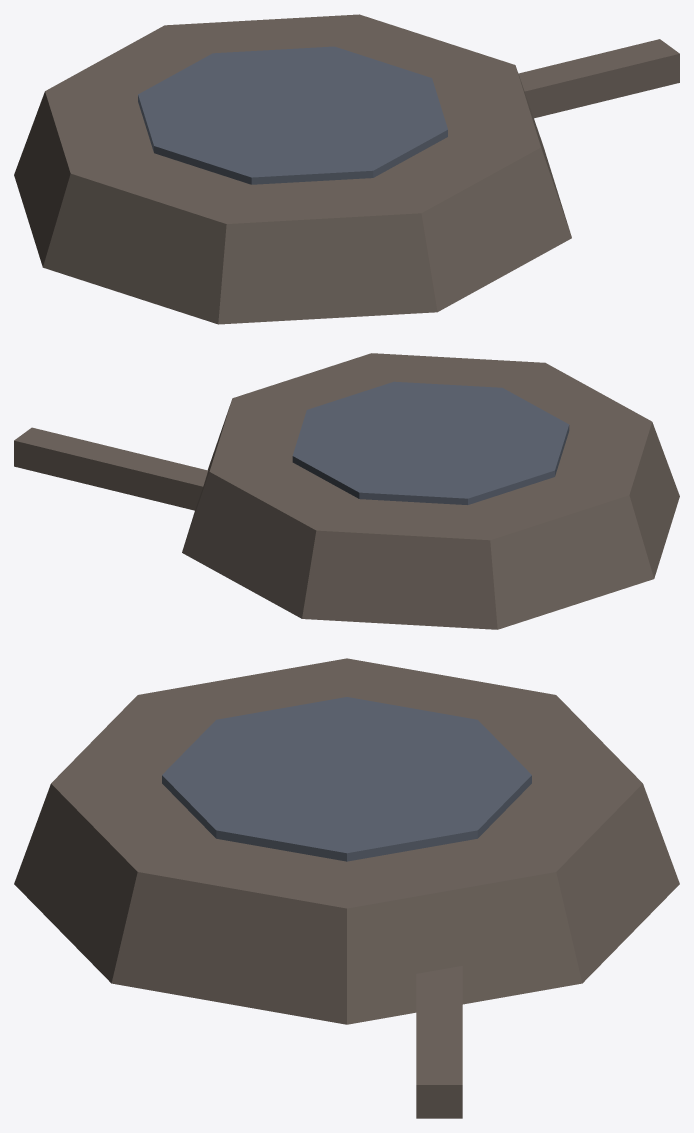
Rendered from rope_coil.glb.
The picture shows the model from 3 angles, top to bottom: view 1: azimuth 30°, elevation 25°; view 2: azimuth 150°, elevation 25°; view 3: azimuth 270°, elevation 25°; orthographic projection. The views are drawn at different scales.
Visible parts, largest first — view 1: rope_coil; view 2: rope_coil; view 3: rope_coil.
Part boxes in pixels (bbox=[...]): rope_coil: bbox=[14, 14, 679, 324]; rope_coil: bbox=[14, 353, 679, 629]; rope_coil: bbox=[14, 658, 679, 1118].
Bounding box in the file's own units: 0.96 × 0.13 × 0.72.
